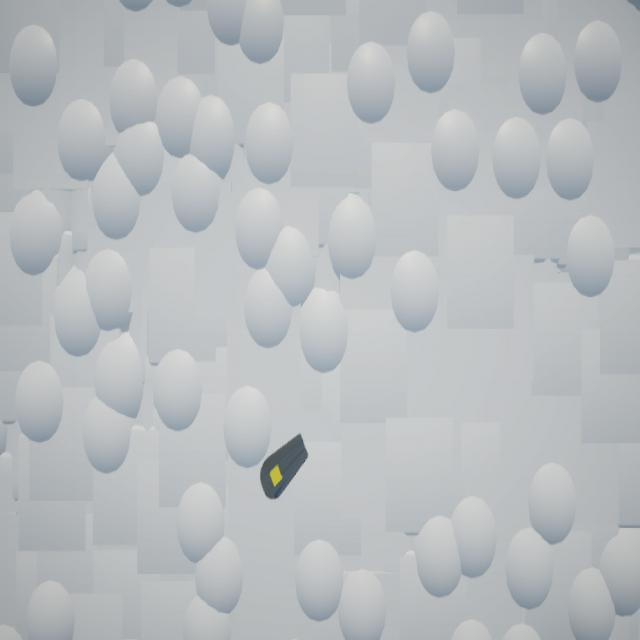handle_folk: (261, 434, 310, 501)
